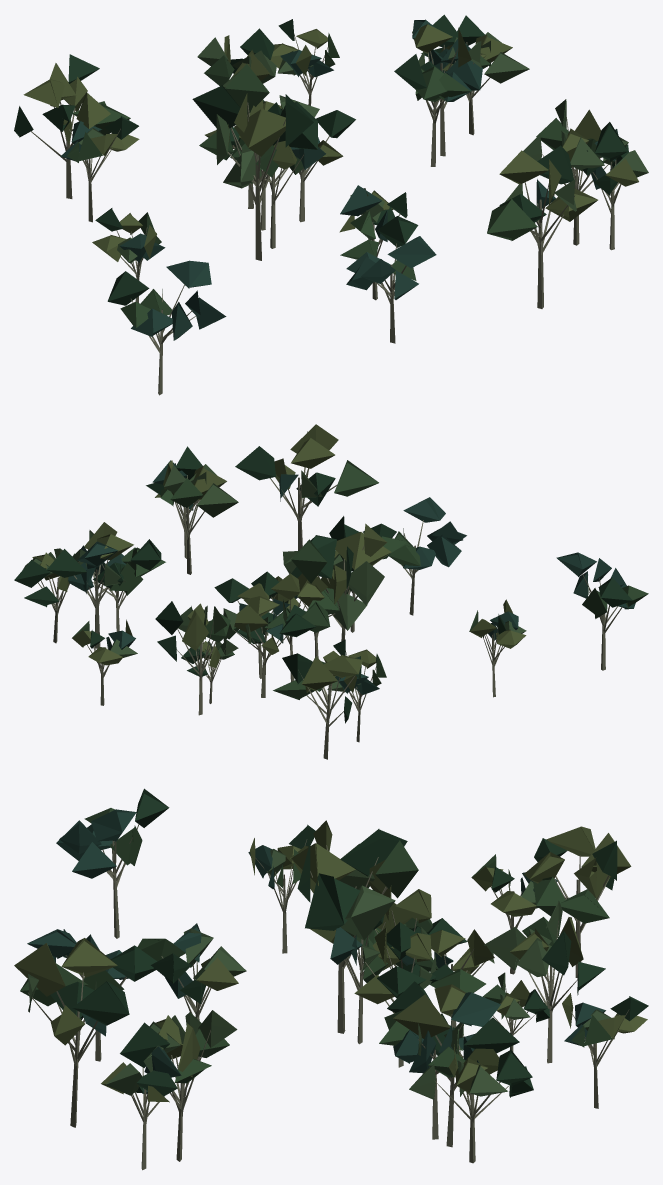
File: forest_17_19.dae
3 views of the same model, one above another, from view 1: azimuth 30°, elevation 25°; view 2: azimuth 150°, elevation 25°; view 3: azimuth 270°, elevation 25° (orthographic). The views are drawn at different scales.
Parts seen in each view (by area): view 1: Node; view 2: Node; view 3: Node.
Boxes of the visible parts, x1=… form: Node: x1=14, y1=14, x2=648, y2=395; Node: x1=14, y1=424, x2=648, y2=759; Node: x1=14, y1=788, x2=648, y2=1170.
Size of the model in its own units: 11.34 by 10 by 3.77.
